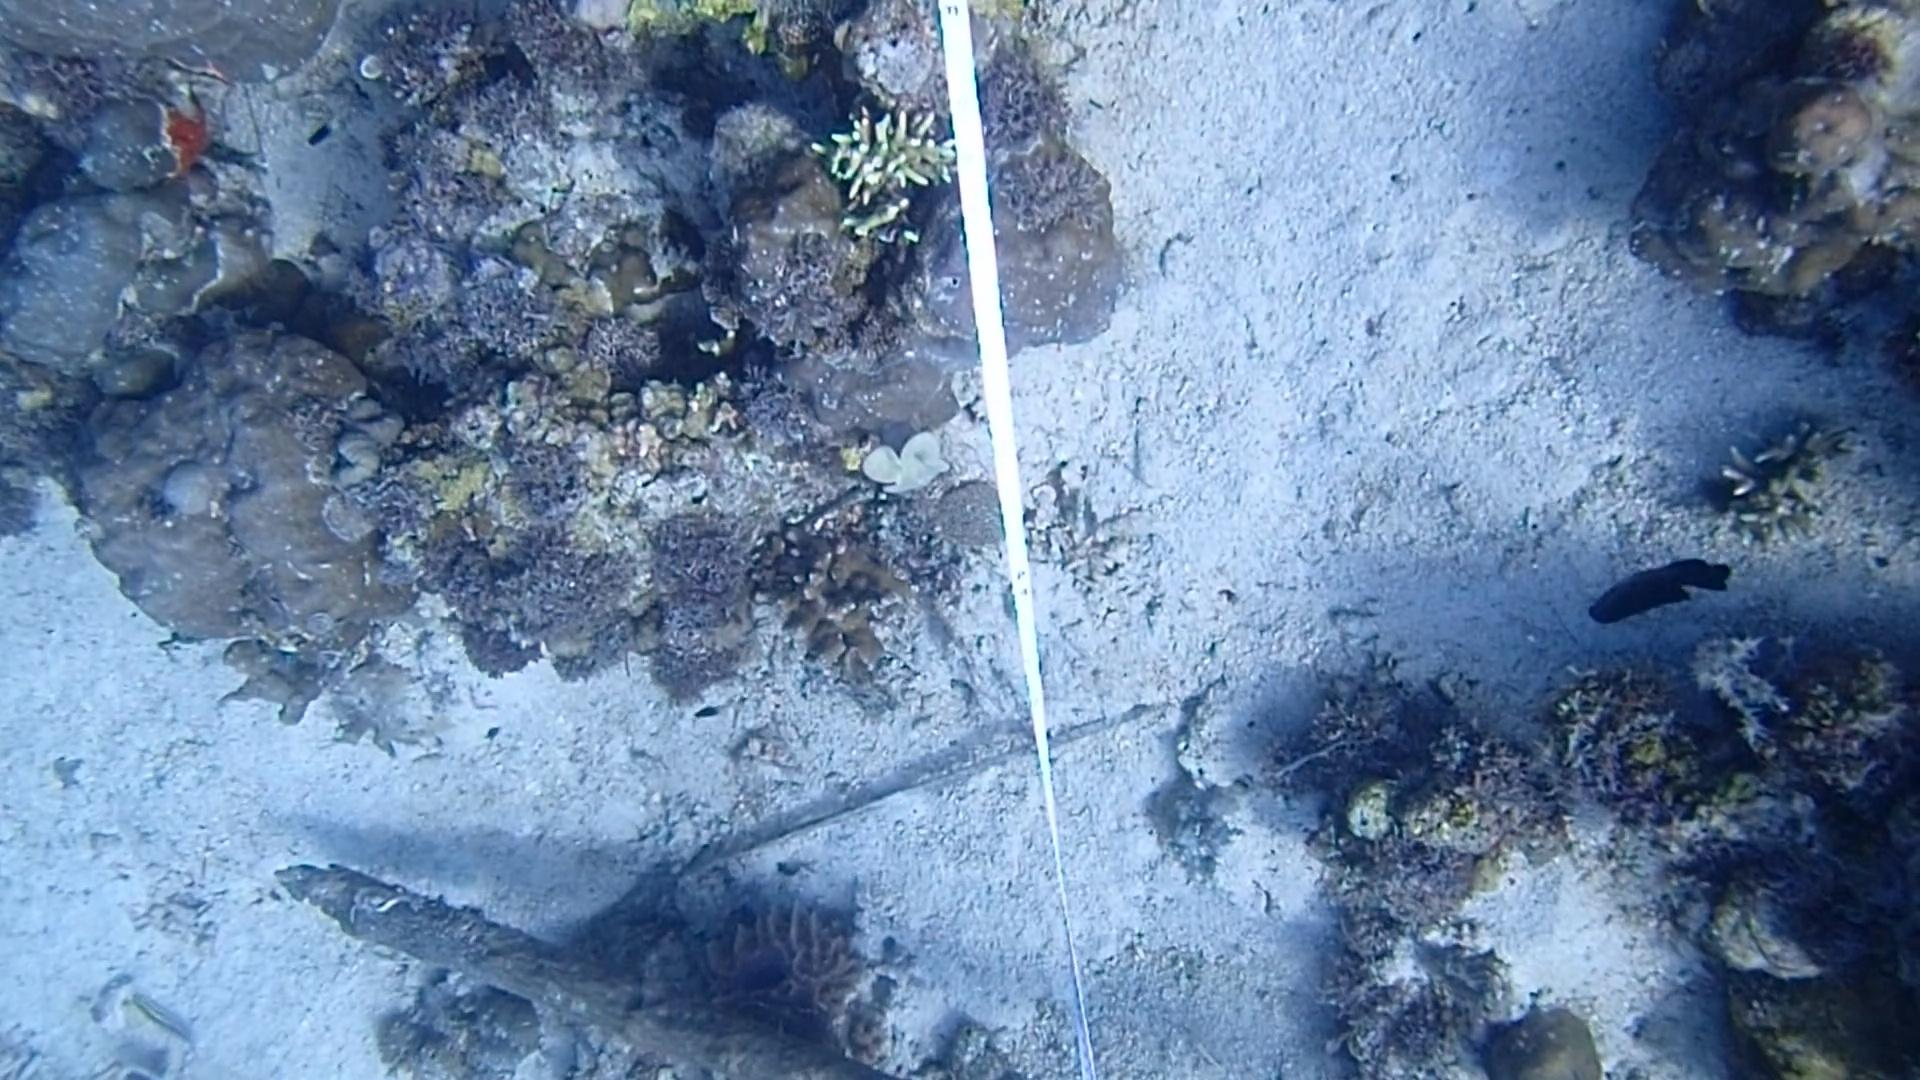Dark Fish: (1561, 541, 1742, 641)
Striped Fish: (127, 973, 202, 1050)
